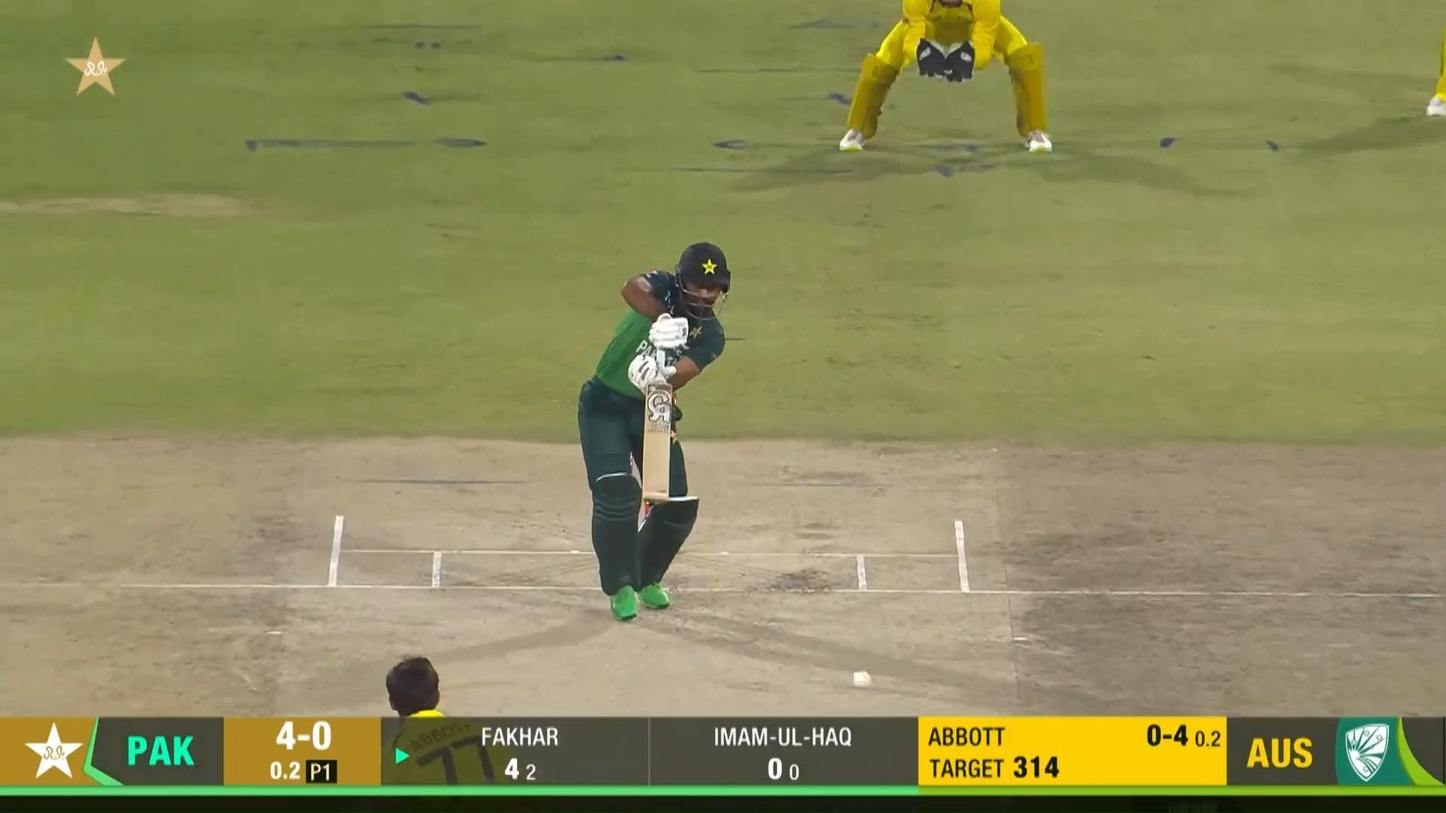BM 1: (579, 242, 731, 621)
BO: (372, 654, 524, 813)
